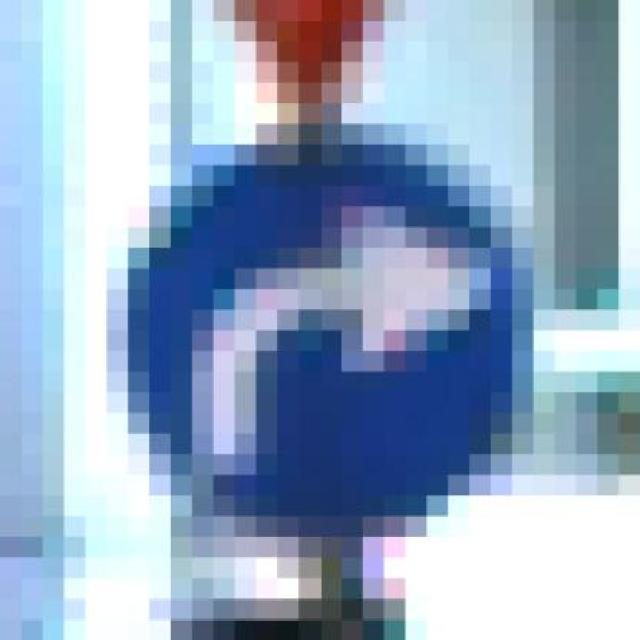Turn right ahead: (63, 124, 554, 558)
